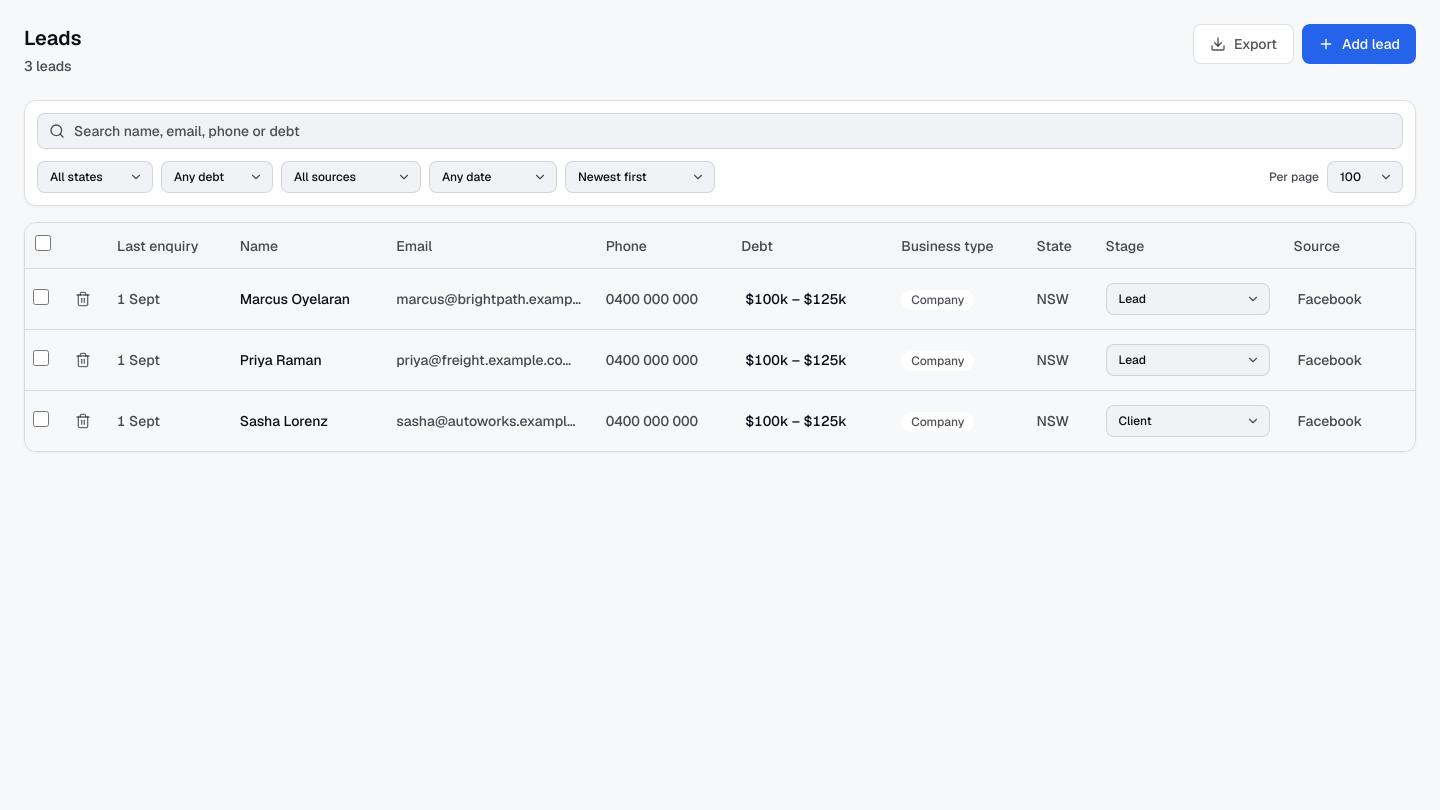
deleting from the list › asks before deleting anything
Click the button named "Delete Marcus Oyelaran" at [83, 299], box [69,285,97,313]
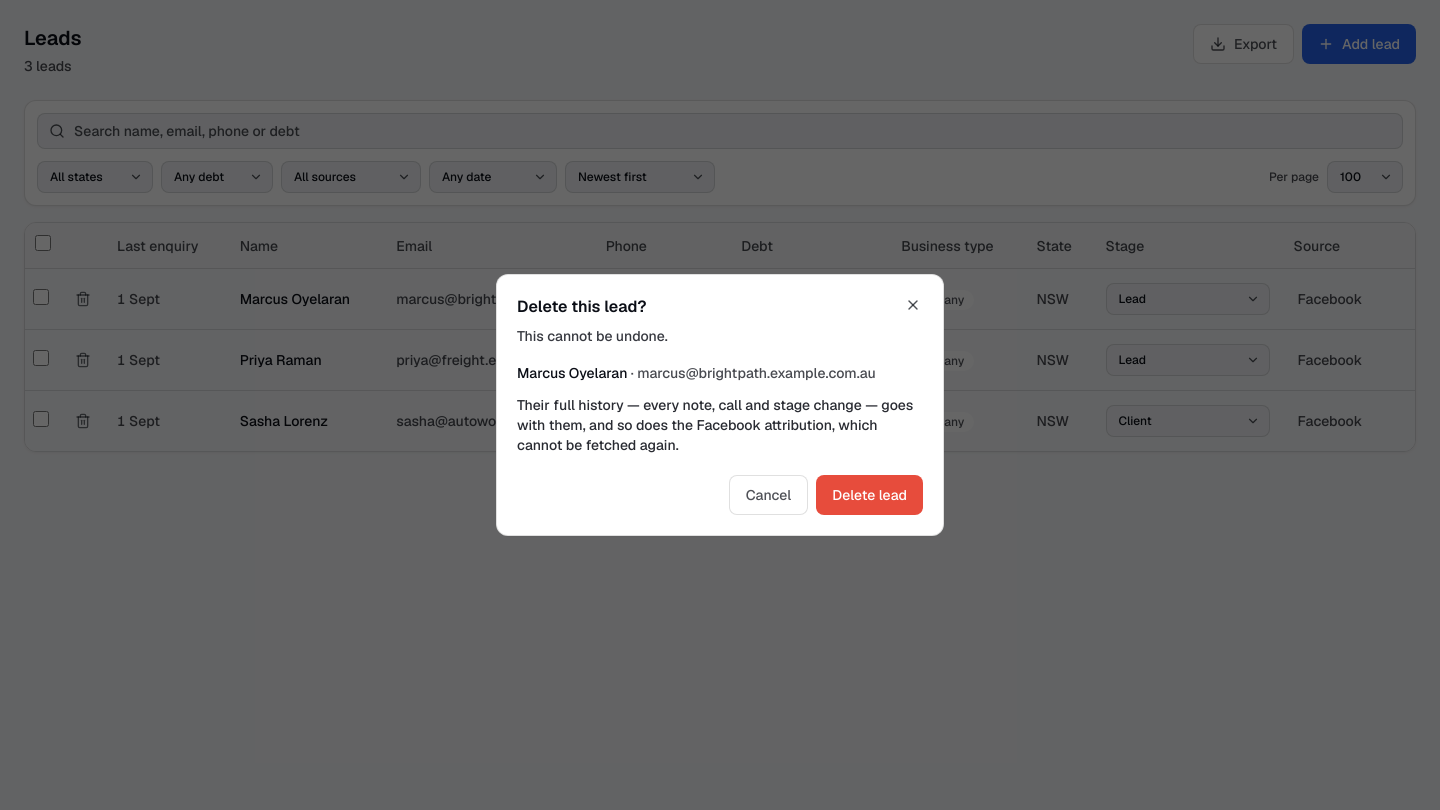
Expected: the text "· marcus@brightpath.example.com.au" is shown, [628,364,876,382]
